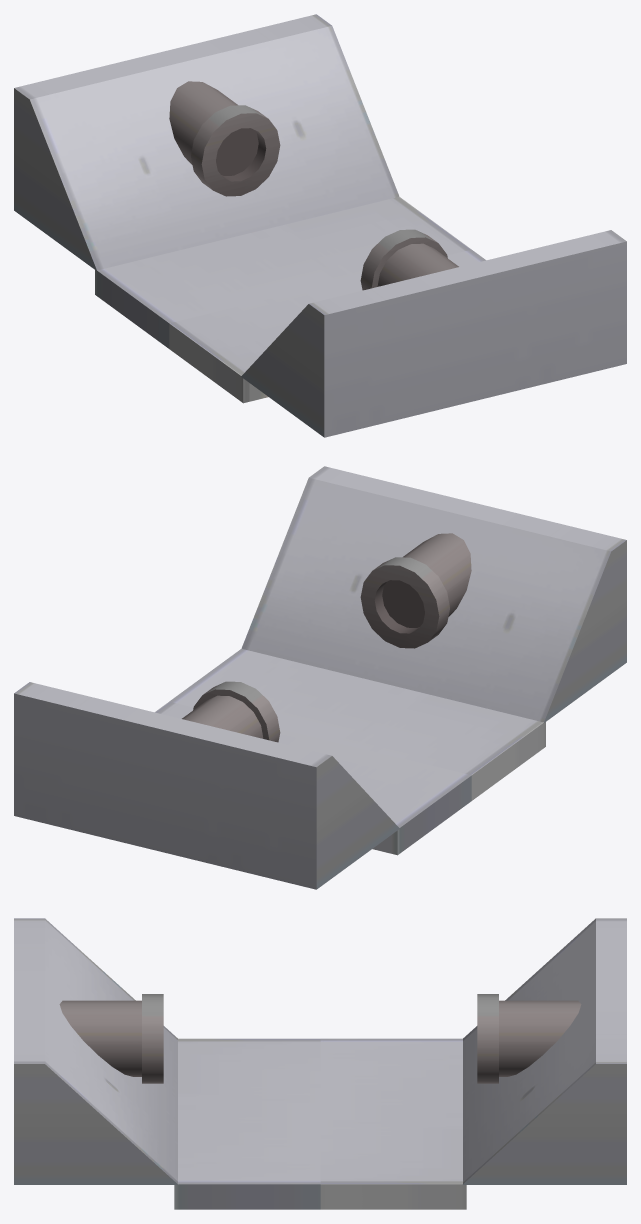
The model's file is Sewage.fbx.
The picture shows the model from 3 angles, top to bottom: view 1: azimuth 30°, elevation 25°; view 2: azimuth 150°, elevation 25°; view 3: azimuth 270°, elevation 25°; orthographic projection.
Parts seen in each view (by area): view 1: Sewage; view 2: Sewage; view 3: Sewage.
Boxes of the visible parts, x1,y1,x2,y2 form: Sewage: (14,14,626,437); Sewage: (14,466,626,889); Sewage: (14,918,626,1209).
Size of the model in its own units: 279 by 130 by 495.
